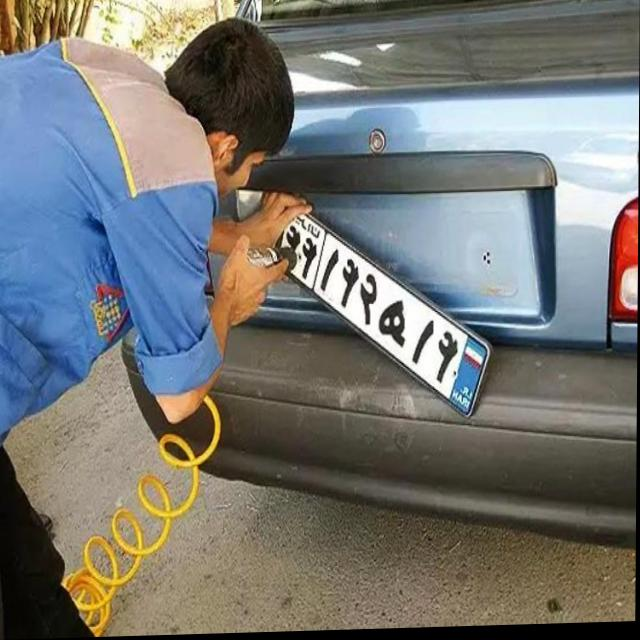licence: (276, 196, 495, 429)
